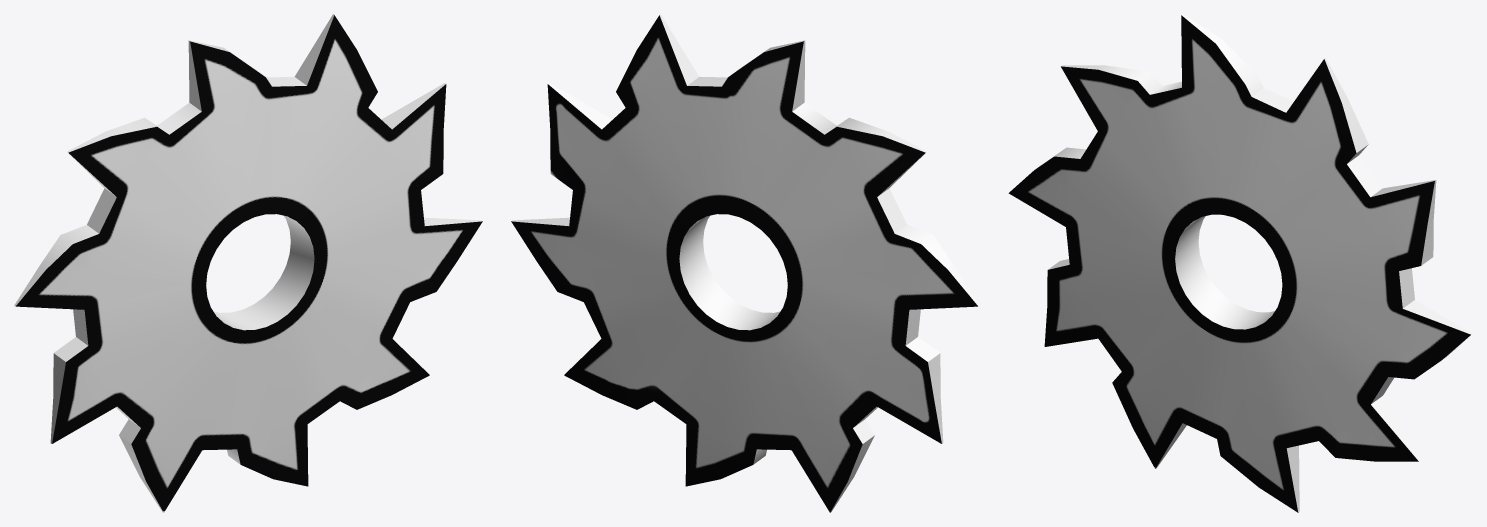
Rendered from SawBlade.FBX.
The picture shows the model from 3 angles, left to right: view 1: azimuth 30°, elevation 25°; view 2: azimuth 150°, elevation 25°; view 3: azimuth 330°, elevation 25°; orthographic projection.
Visible parts, largest first — view 1: Cylinder001; view 2: Cylinder001; view 3: Cylinder001.
Part boxes in pixels (x1,y1,x2,y2): Cylinder001: (14,14,482,512); Cylinder001: (511,14,979,512); Cylinder001: (1008,14,1472,512).
Bounding box in the file's own units: 61.04 × 59.17 × 5.36.
